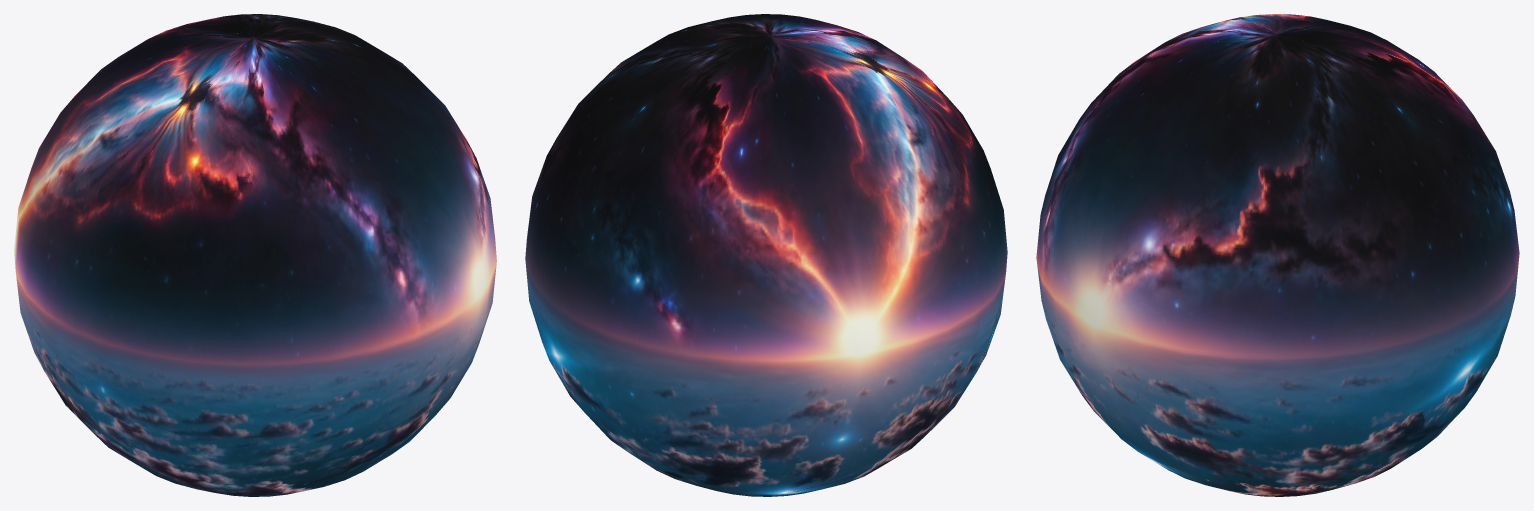
Rendered from deep_space_skybox.glb.
3 views of the same model, side by side, from view 1: azimuth 30°, elevation 25°; view 2: azimuth 150°, elevation 25°; view 3: azimuth 270°, elevation 25° (orthographic).
Parts seen in each view (by area): view 1: Sphere; view 2: Sphere; view 3: Sphere.
Boxes of the visible parts, <box> form: Sphere: <box>14,14,496,496</box>; Sphere: <box>525,14,1007,496</box>; Sphere: <box>1036,14,1519,496</box>.
Bounding box in the file's own units: 155 × 155 × 155.
1 material, 1 textured.
